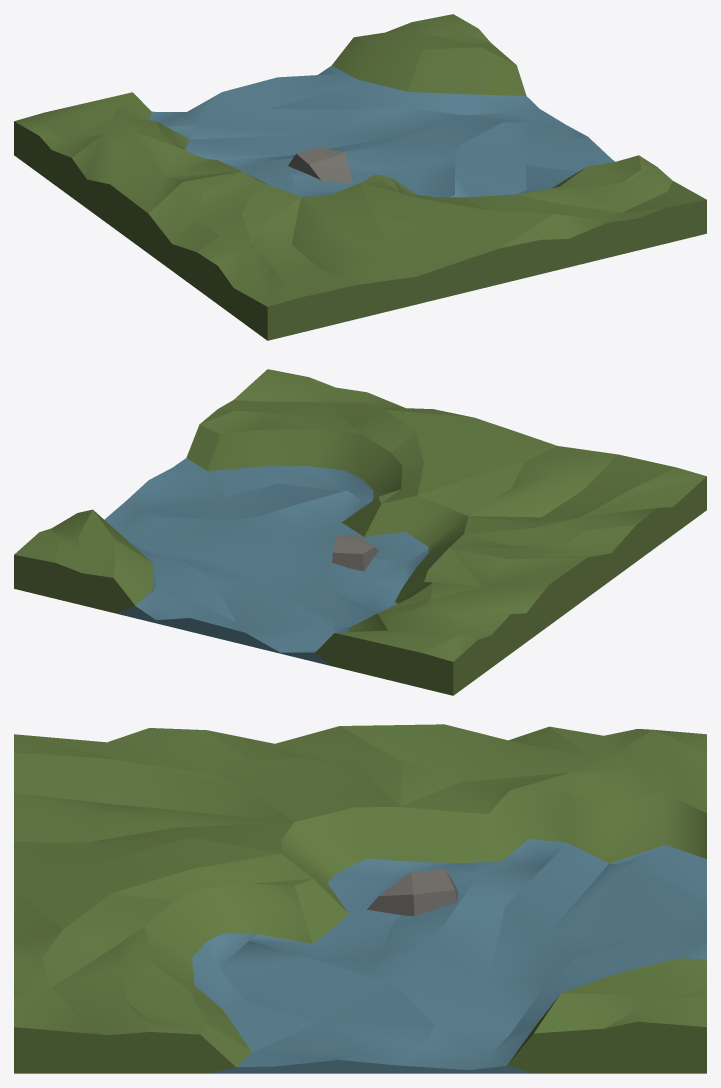
File: Water_Turn_LB.glb
3 views of the same model, one above another, from view 1: azimuth 30°, elevation 25°; view 2: azimuth 150°, elevation 25°; view 3: azimuth 270°, elevation 25° (orthographic). The views are drawn at different scales.
Parts seen in each view (by area): view 1: Water_Turn_LB; view 2: Water_Turn_LB; view 3: Water_Turn_LB.
Part boxes in pixels (box(x1,y1,x2,y2)): Water_Turn_LB: box(14, 14, 706, 340); Water_Turn_LB: box(14, 369, 706, 695); Water_Turn_LB: box(14, 724, 706, 1073).
Size of the model in its own units: 1.47 by 0.1477 by 1.47.
